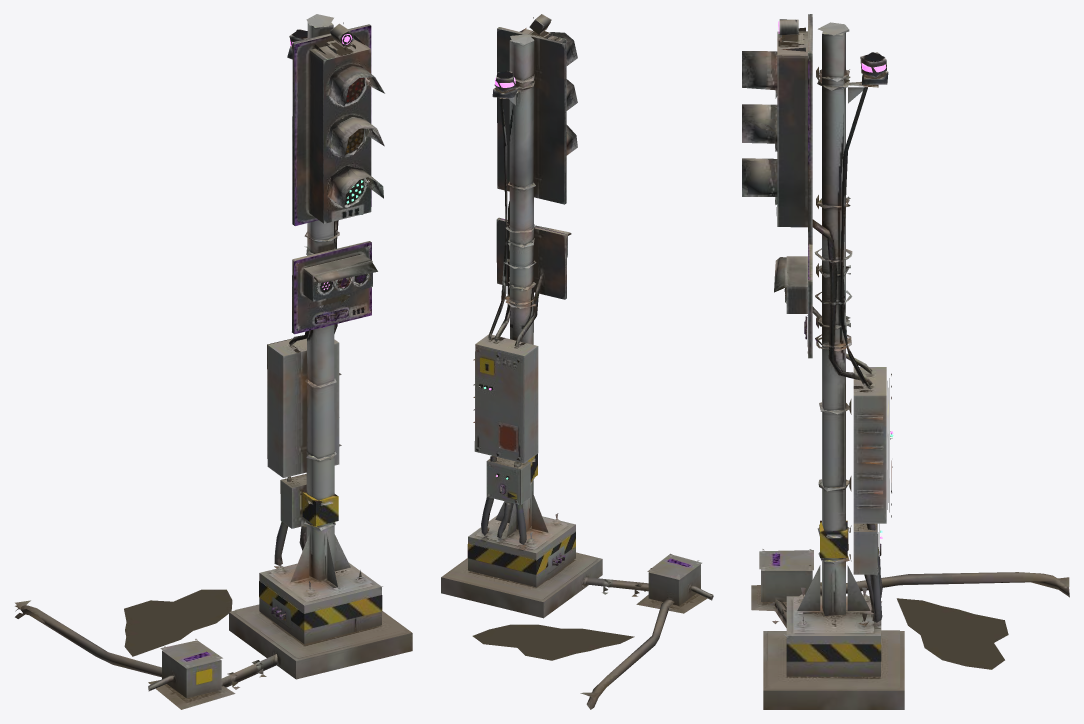
File: sinal_cadeia.glb
3 views of the same model, side by side, from view 1: azimuth 30°, elevation 25°; view 2: azimuth 150°, elevation 25°; view 3: azimuth 270°, elevation 25° (orthographic). The views are drawn at different scales.
Visible parts, largest first — view 1: sinal_cadeia_corpo; view 2: sinal_cadeia_corpo; view 3: sinal_cadeia_corpo.
Boxes of the visible parts, x1,y1,x2,y2 form: sinal_cadeia_corpo: (15, 14, 412, 709); sinal_cadeia_corpo: (441, 14, 713, 709); sinal_cadeia_corpo: (742, 14, 1069, 709).
Size of the model in its own units: 0.6514 by 1.59 by 0.6961.
5 materials, 1 textured.
